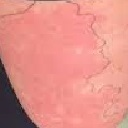Cellulitis: (16, 22, 82, 91)
